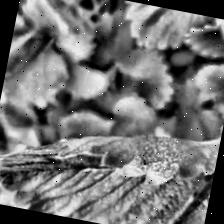Powdery Mildew Leaf: (0, 92, 221, 224)
